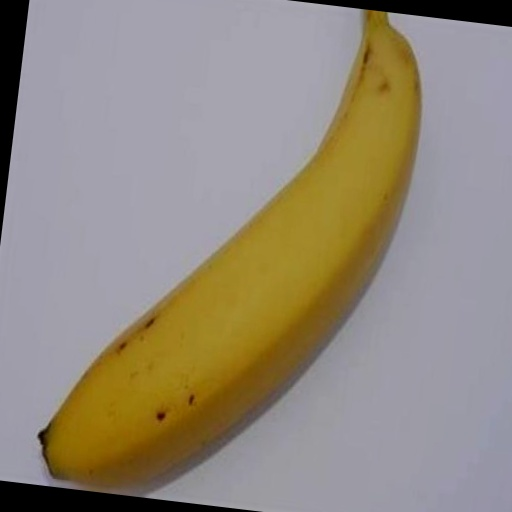fruit: (40, 10, 420, 485)
